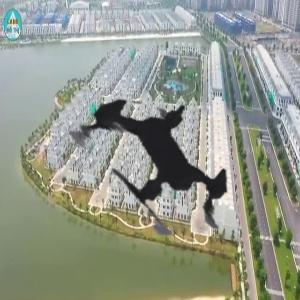drone: (32, 28, 299, 295)
